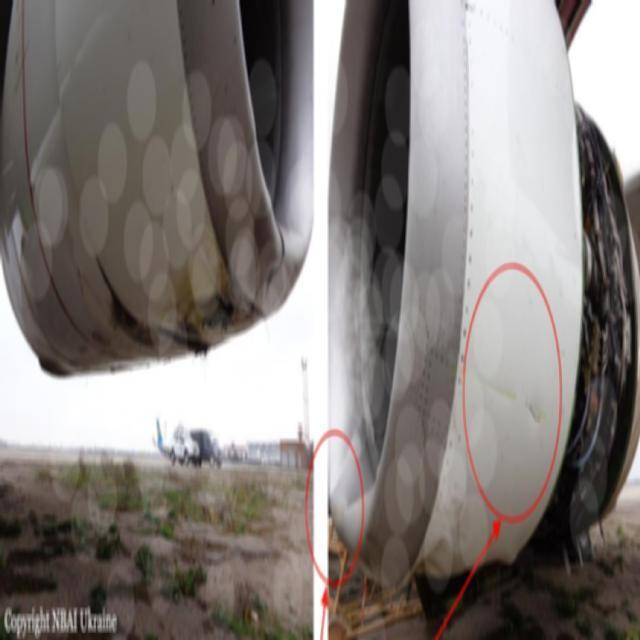crack: (521, 392, 543, 425)
dent: (390, 543, 453, 594), (242, 197, 271, 295)
